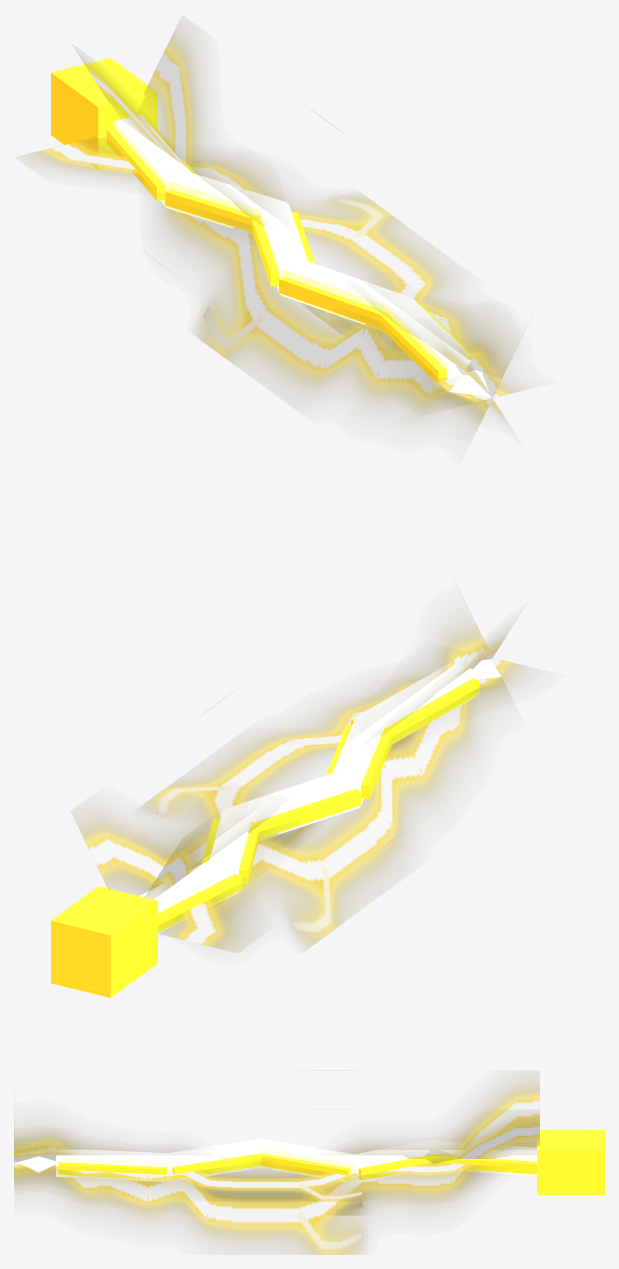
Rendered from w_zeus.glb.
3 renders of one model, top to bottom at view 1: azimuth 30°, elevation 25°; view 2: azimuth 150°, elevation 25°; view 3: azimuth 270°, elevation 25°, orthographic. The views are drawn at different scales.
Visible parts, largest first — view 1: w_zeus_arc, w_zeus_gold, w_zeus_core; view 2: w_zeus_arc, w_zeus_gold, w_zeus_core; view 3: w_zeus_arc, w_zeus_gold, w_zeus_core.
Part boxes in pixels (x1,y1,x2,y2): w_zeus_arc: (20, 21, 530, 432); w_zeus_gold: (51, 58, 481, 385); w_zeus_core: (114, 114, 501, 398); w_zeus_arc: (74, 585, 555, 952); w_zeus_gold: (51, 678, 479, 997); w_zeus_core: (139, 654, 501, 933); w_zeus_arc: (14, 1070, 539, 1254); w_zeus_gold: (58, 1129, 604, 1195); w_zeus_core: (17, 1139, 536, 1183).
Size of the model in its own units: 0.6 by 0.5196 by 1.91.
Materials: 3 (1 with a texture image).
